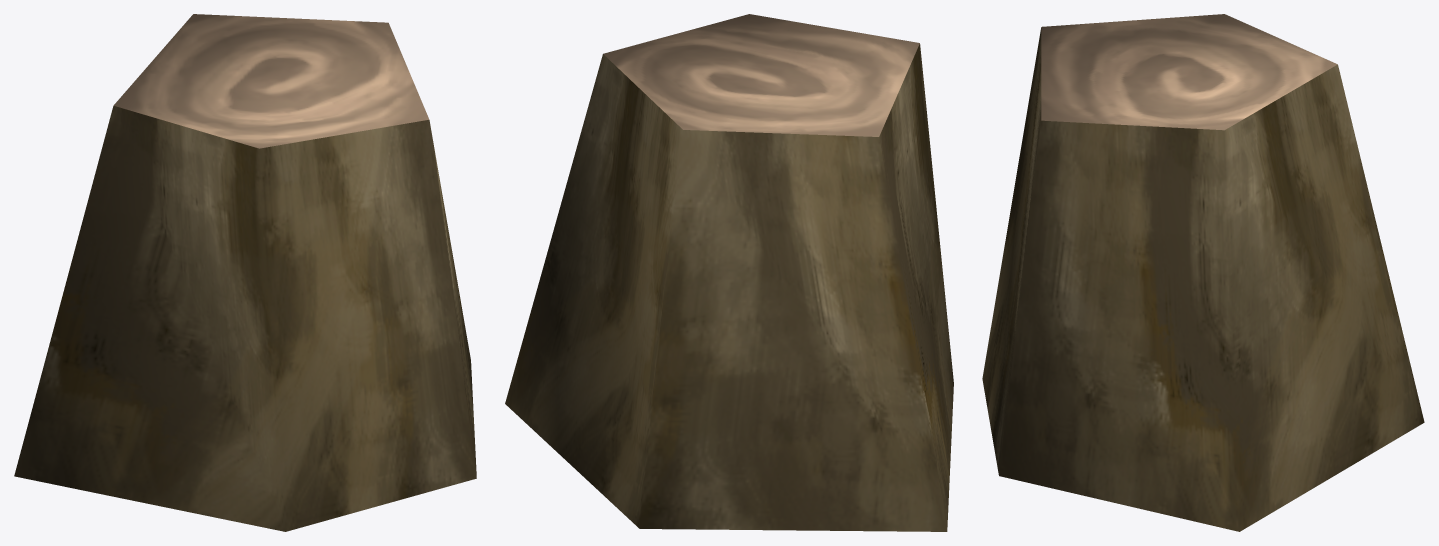
Rendered from Stump.fbx.
3 renders of one model, left to right at view 1: azimuth 30°, elevation 25°; view 2: azimuth 150°, elevation 25°; view 3: azimuth 270°, elevation 25°, orthographic. The views are drawn at different scales.
Visible parts, largest first — view 1: Stump; view 2: Stump; view 3: Stump.
Boxes of the visible parts, x1,y1,x2,y2 form: Stump: (14,14,476,531); Stump: (505,14,953,531); Stump: (982,14,1424,531).
Bounding box in the file's own units: 136 × 109 × 118.
